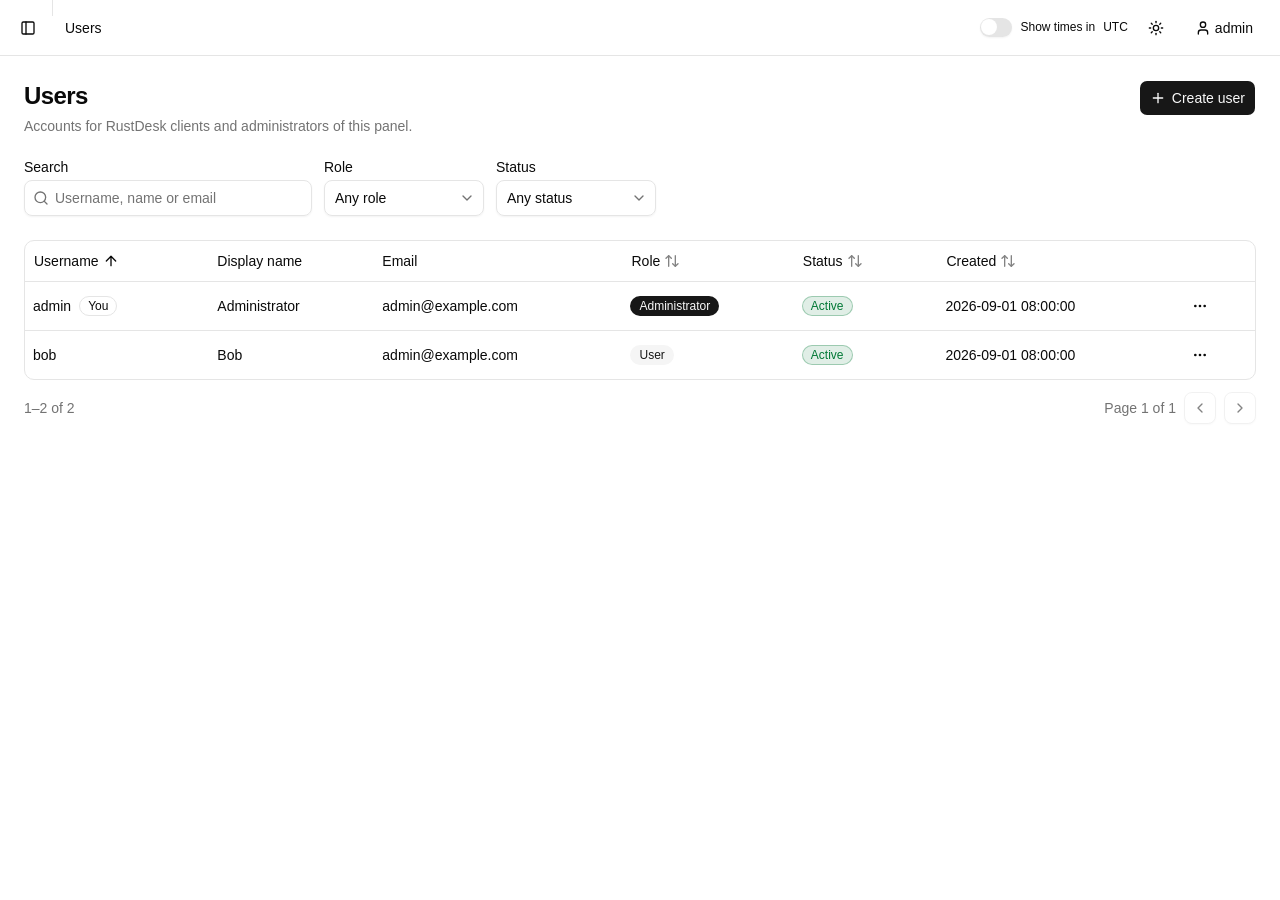
Scenario: users › creates a user and keeps no password in the TanStack caches
Click the button "Create user": (1197, 98) [1139, 80, 1256, 116]
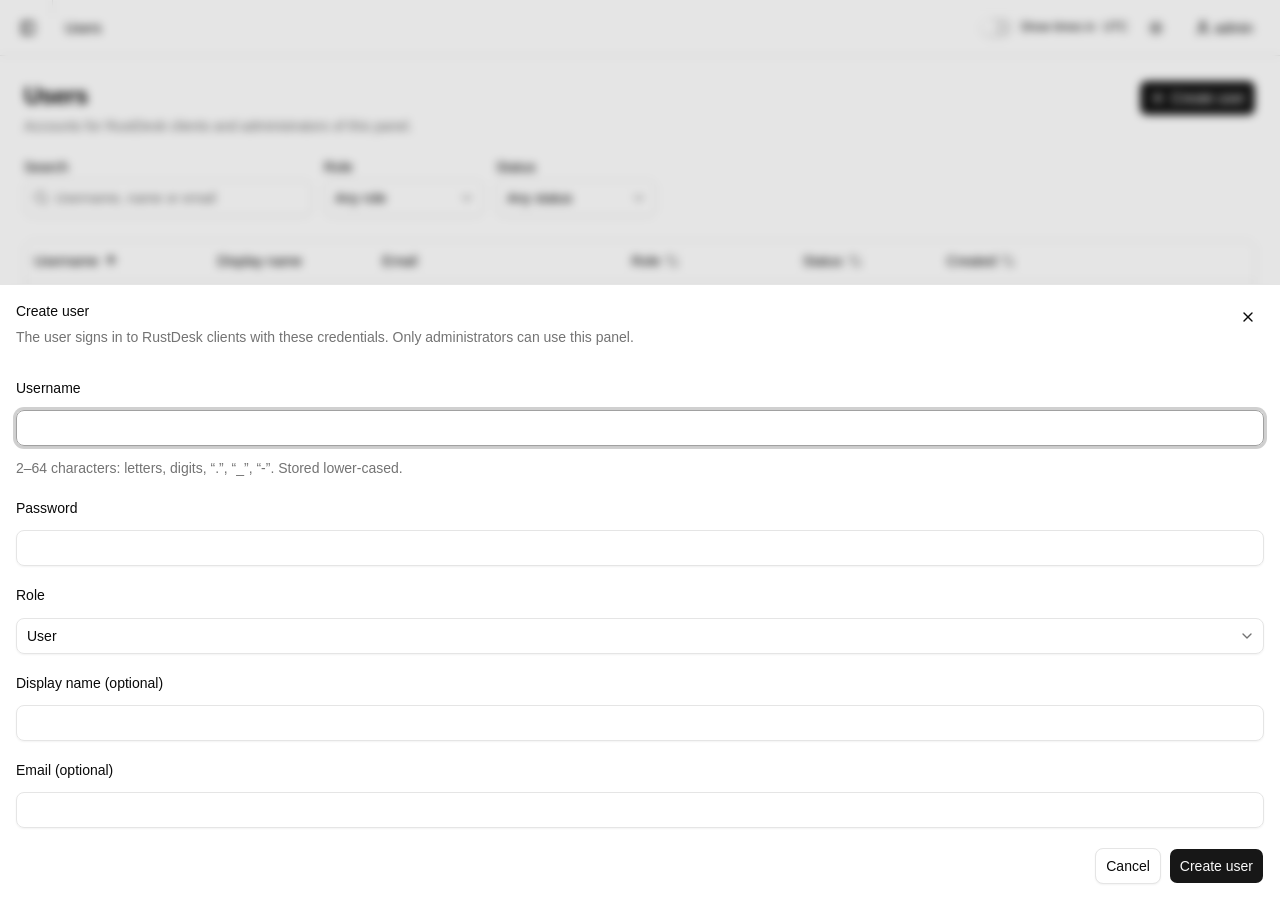
In the field labelled "Username": (640, 428) [16, 410, 1264, 446], type "carol"
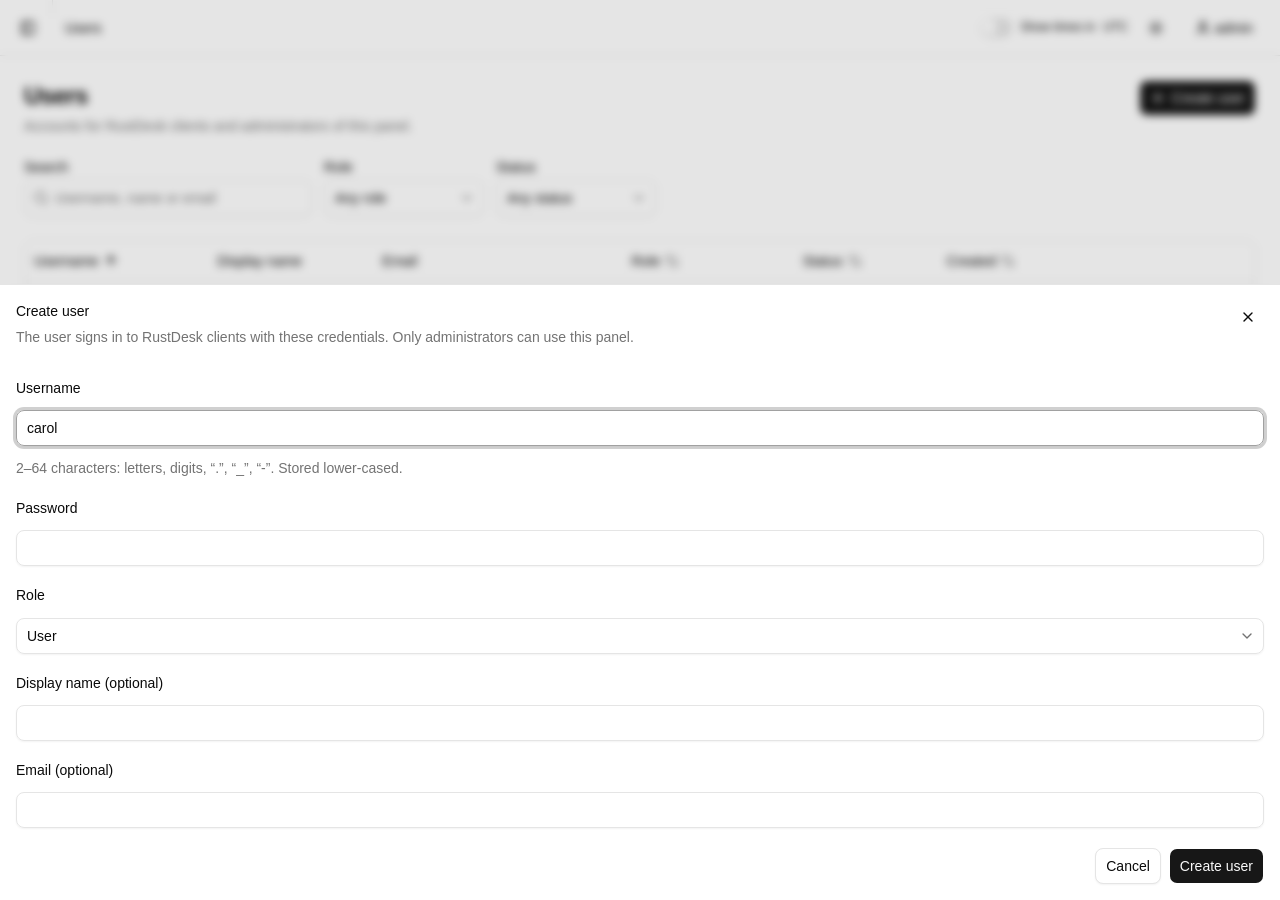
In the password field labelled "Password": (640, 548) [16, 530, 1264, 566], type "a-long-password"
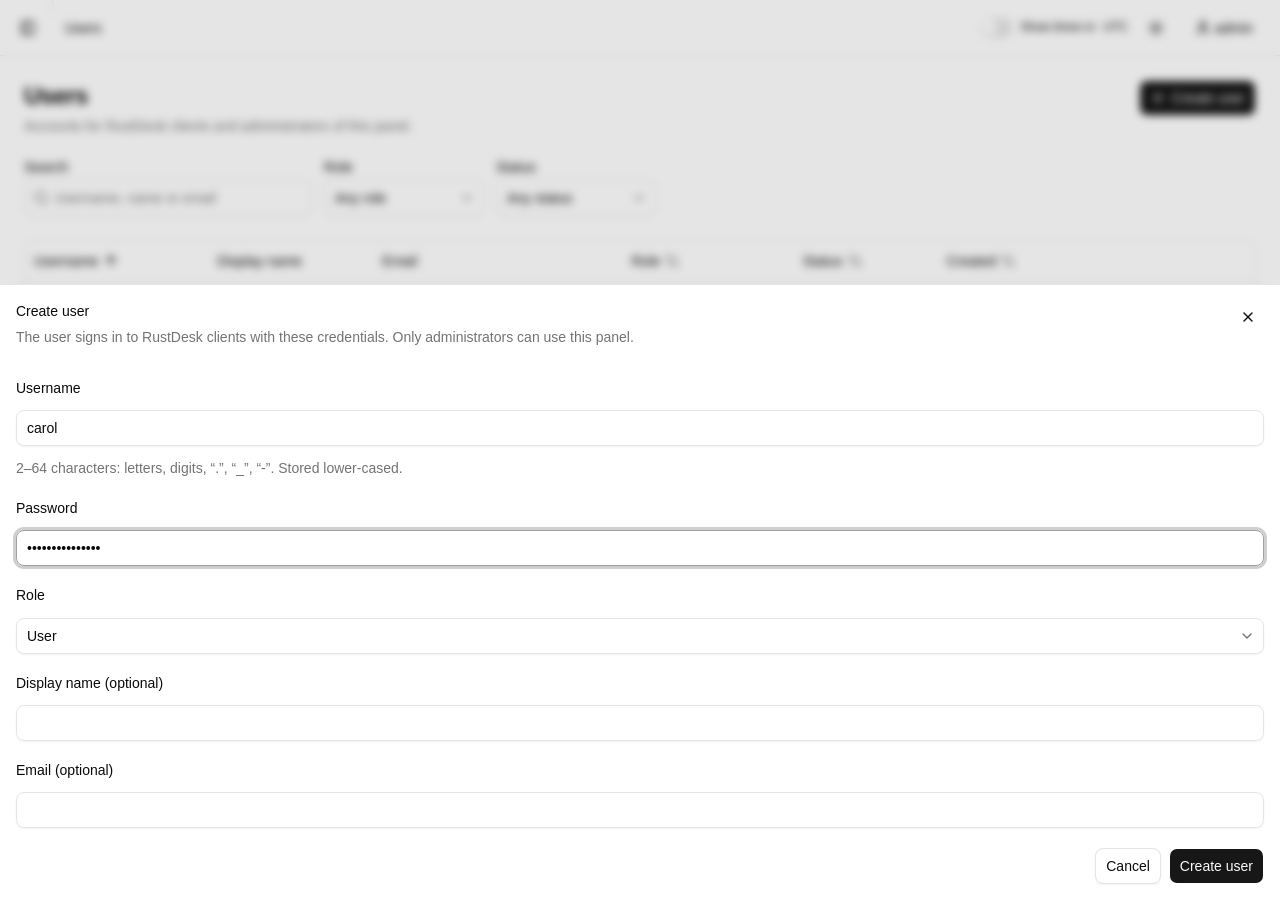
Click the button "Create user": (1216, 866) [1169, 848, 1264, 884]
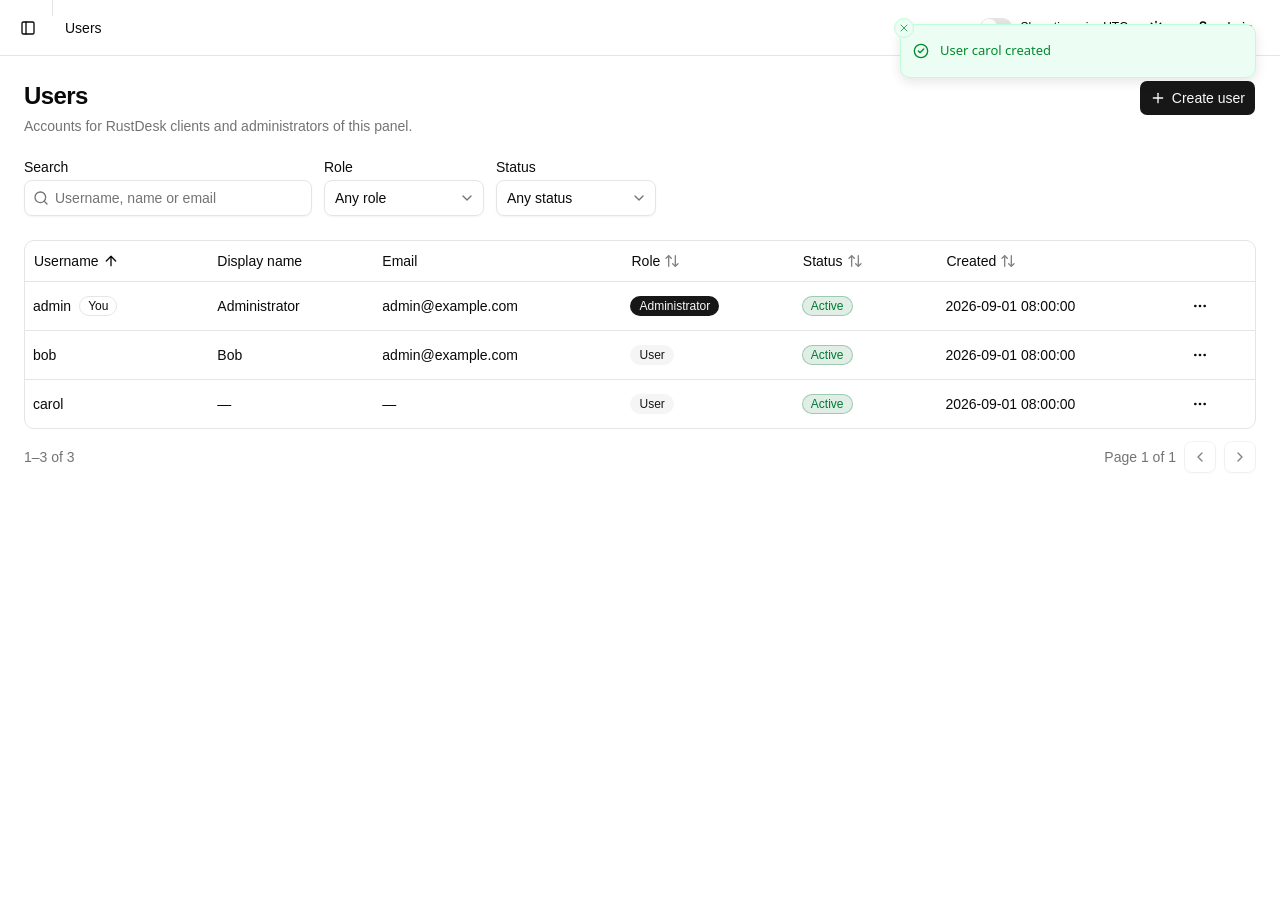
Now the text "User carol created" is shown, box [940, 41, 1051, 60]
Now the link "carol" is shown, box [33, 394, 63, 414]
